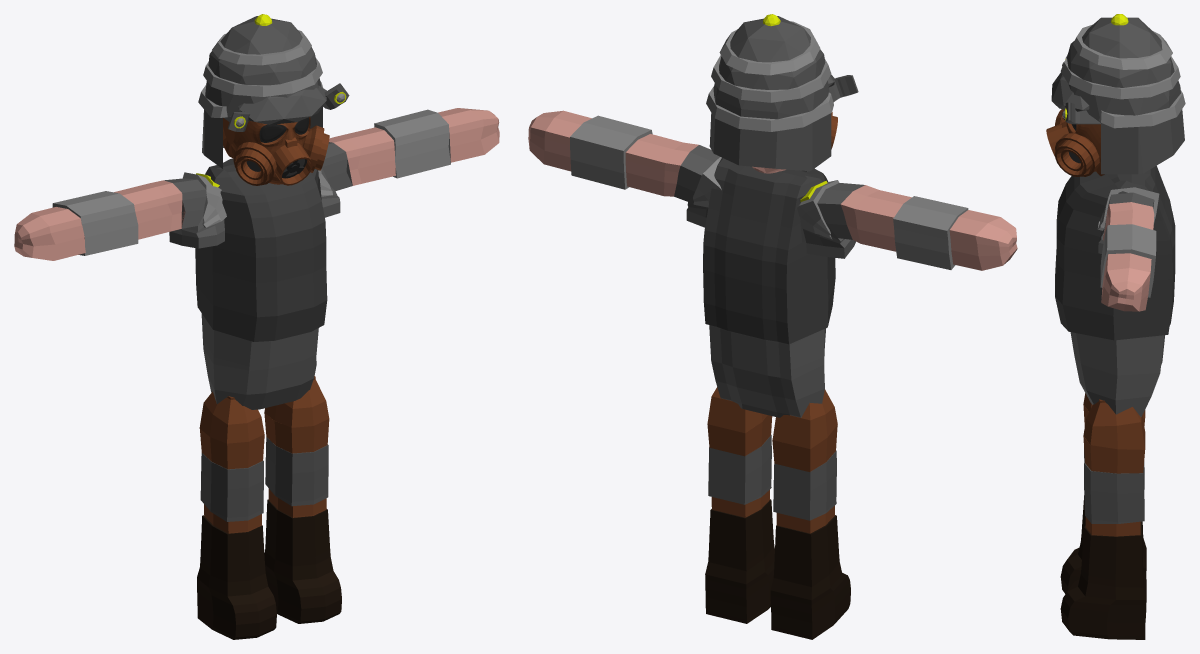
The model's file is Guard6.fbx.
3 renders of one model, left to right at view 1: azimuth 30°, elevation 25°; view 2: azimuth 150°, elevation 25°; view 3: azimuth 270°, elevation 25°, orthographic.
Parts seen in each view (by area): view 1: MiddleSpine, Head, rightarm, leftarm, RightFoot, LeftFoot, LeftKnee, RightKnee, Pelvis, Rightelbow, RightPelvis, LeftPelvis (+1 smaller); view 2: MiddleSpine, Head, rightarm, leftarm, RightFoot, LeftFoot, RightKnee, LeftKnee, Pelvis, Rightelbow, Leftelbow, RightPelvis (+1 smaller); view 3: Head, MiddleSpine, LeftFoot, leftarm, LeftKnee, Pelvis, LeftPelvis, Leftelbow, RightFoot.
Part boxes in pixels (<box>): MiddleSpine: <box>195,158,327,366</box>; Head: <box>198,14,349,185</box>; rightarm: <box>14,180,185,260</box>; leftarm: <box>329,108,499,185</box>; RightFoot: <box>197,515,276,639</box>; LeftFoot: <box>264,499,341,623</box>; LeftKnee: <box>264,413,329,517</box>; RightKnee: <box>200,429,264,533</box>; Pelvis: <box>203,339,316,409</box>; Rightelbow: <box>164,172,226,248</box>; RightPelvis: <box>199,391,264,443</box>; LeftPelvis: <box>264,376,329,427</box>; MiddleSpine: <box>703,157,835,370</box>; Head: <box>706,14,858,173</box>; rightarm: <box>840,185,1017,270</box>; leftarm: <box>528,110,698,196</box>; RightFoot: <box>770,515,850,639</box>; LeftFoot: <box>705,499,774,623</box>; RightKnee: <box>772,425,837,533</box>; LeftKnee: <box>707,415,772,517</box>; Pelvis: <box>710,351,824,417</box>; Rightelbow: <box>797,180,864,258</box>; Leftelbow: <box>674,145,721,227</box>; RightPelvis: <box>772,389,837,449</box>; Head: <box>1046,14,1185,176</box>; MiddleSpine: <box>1055,165,1175,368</box>; LeftFoot: <box>1060,521,1146,639</box>; leftarm: <box>1100,202,1156,311</box>; LeftKnee: <box>1083,436,1144,536</box>; Pelvis: <box>1074,353,1163,416</box>; LeftPelvis: <box>1083,399,1145,449</box>; Leftelbow: <box>1097,187,1159,253</box>; RightFoot: <box>1060,495,1146,593</box>.
Size of the model in its own units: 1483 by 1775 by 373.
